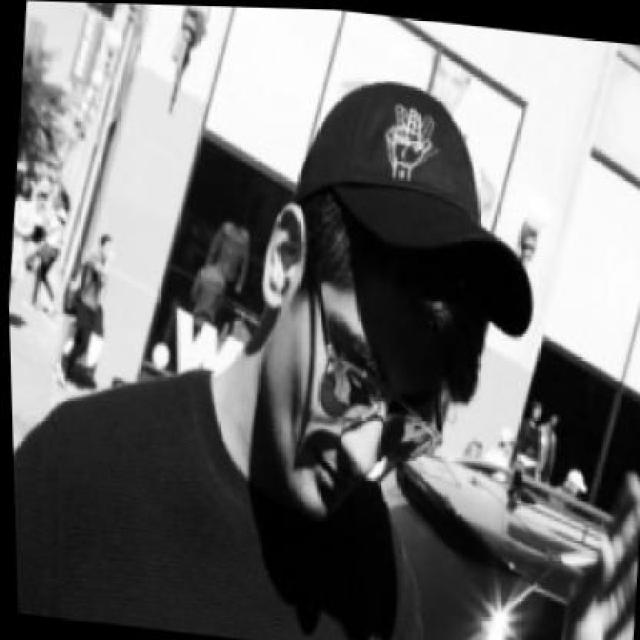hat: (279, 69, 555, 342)
